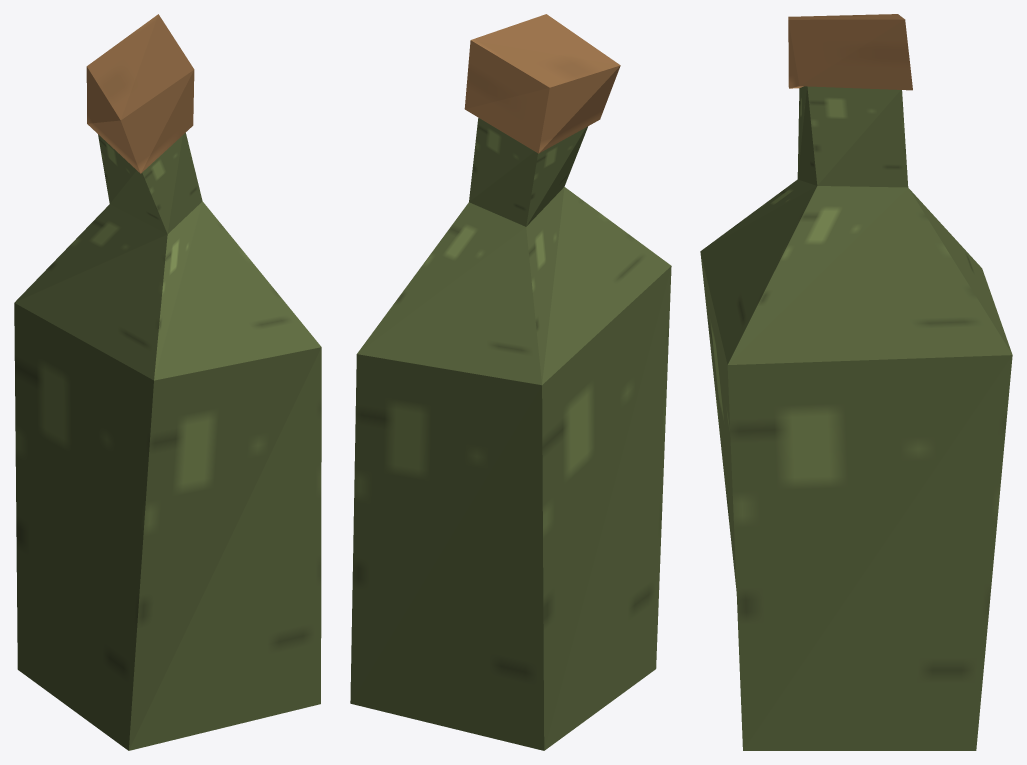
File: SM_BottleGreen.fbx
3 renders of one model, left to right at view 1: azimuth 30°, elevation 25°; view 2: azimuth 150°, elevation 25°; view 3: azimuth 270°, elevation 25°, orthographic. The views are drawn at different scales.
Parts seen in each view (by area): view 1: BottleGreen_Visual; view 2: BottleGreen_Visual; view 3: BottleGreen_Visual.
Boxes of the visible parts, x1,y1,x2,y2 form: BottleGreen_Visual: (14, 14, 321, 750); BottleGreen_Visual: (350, 14, 671, 750); BottleGreen_Visual: (700, 14, 1012, 750).
Size of the model in its own units: 0.0568 by 0.184 by 0.0757.
